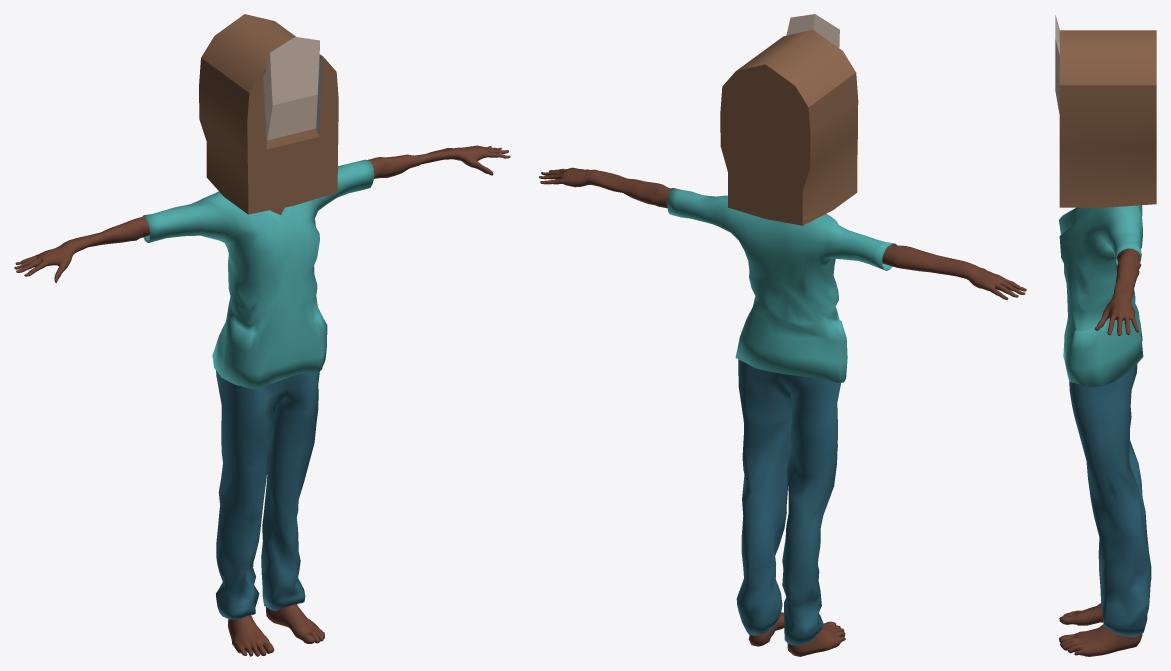
The model's file is Thumb_Patient.obj.
3 renders of one model, left to right at view 1: azimuth 30°, elevation 25°; view 2: azimuth 150°, elevation 25°; view 3: azimuth 270°, elevation 25°, orthographic.
Parts seen in each view (by area): view 1: pCube2, ZombieWoman_Scrubs:Tops, ZombieWoman_Scrubs:Bottoms; view 2: pCube2, ZombieWoman_Scrubs:Bottoms, ZombieWoman_Scrubs:Tops; view 3: pCube2, ZombieWoman_Scrubs:Bottoms, ZombieWoman_Scrubs:Tops.
Boxes of the visible parts, x1,y1,x2,y2 form: pCube2: [14, 14, 510, 656]; ZombieWoman_Scrubs:Tops: [142, 159, 374, 388]; ZombieWoman_Scrubs:Bottoms: [216, 371, 319, 619]; pCube2: [539, 14, 1026, 656]; ZombieWoman_Scrubs:Bottoms: [736, 359, 840, 645]; ZombieWoman_Scrubs:Tops: [667, 188, 896, 382]; pCube2: [1055, 15, 1156, 656]; ZombieWoman_Scrubs:Bottoms: [1069, 364, 1151, 636]; ZombieWoman_Scrubs:Tops: [1059, 205, 1143, 386].
Bounding box in the file's own units: 8.12 × 9.77 × 1.44.
